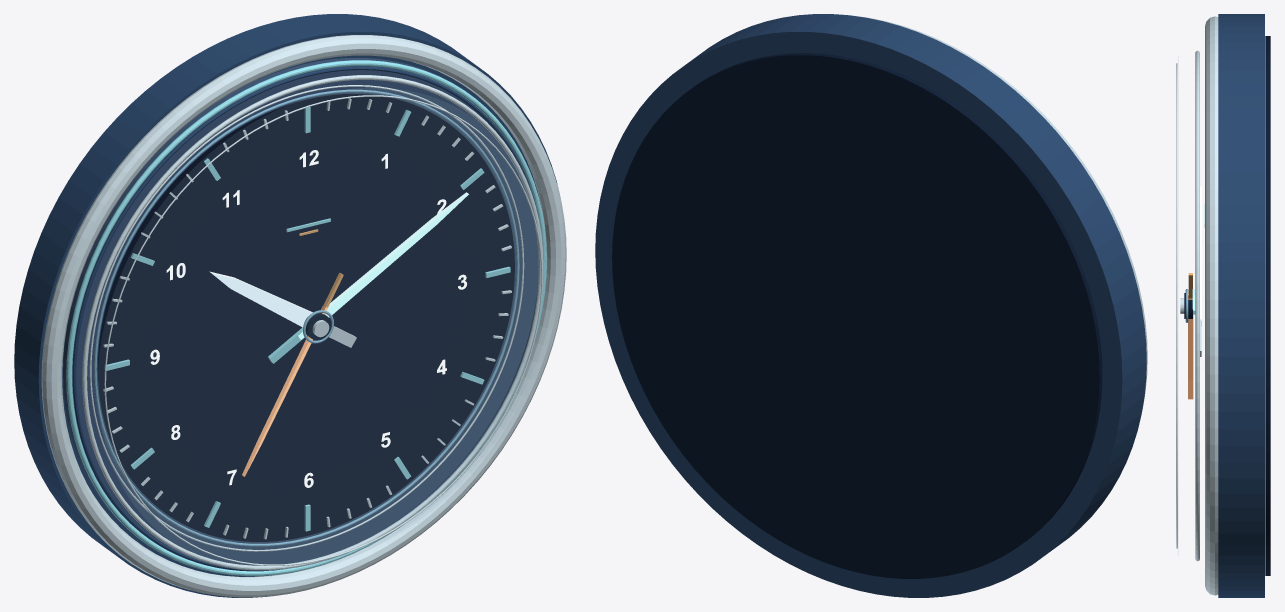
File: clock.glb
3 views of the same model, side by side, from view 1: azimuth 30°, elevation 25°; view 2: azimuth 150°, elevation 25°; view 3: azimuth 270°, elevation 25° (orthographic). The views are drawn at different scales.
Visible parts, largest first — view 1: Dial / brushed face, Bezel / outer polished edge, Dial / recessed enamel, Case / cobalt body, Crystal / fine perimeter, Bezel / cyan inner lip, Bezel / inner machined seam, Dial / circular minute track, Dial / fine radial border, Crystal / highlight rim, HAND_MINUTE / blade, HAND_HOUR / blade (+1 smaller); view 2: Back / dark steel, Case / cobalt body, Bezel / outer polished edge; view 3: Case / cobalt body, Bezel / outer polished edge, Back / dark steel, Crystal / fine perimeter, Crystal / highlight rim, HAND_SECOND / blade, HAND_HOUR / blade.
Part boxes in pixels (x1,y1,x2,y2): Dial / brushed face: (97, 94, 514, 541); Bezel / outer polished edge: (41, 35, 566, 597); Dial / recessed enamel: (63, 58, 538, 565); Case / cobalt body: (14, 14, 558, 597); Crystal / fine perimeter: (82, 75, 543, 570); Bezel / cyan inner lip: (66, 60, 546, 576); Bezel / inner machined seam: (72, 66, 538, 571); Dial / circular minute track: (94, 89, 519, 546); Dial / fine radial border: (89, 85, 524, 551); Crystal / highlight rim: (104, 95, 542, 565); HAND_MINUTE / blade: (298, 192, 468, 339); HAND_HOUR / blade: (209, 271, 312, 327); Back / dark steel: (612, 53, 1102, 578); Case / cobalt body: (595, 14, 1146, 597); Bezel / outer polished edge: (853, 15, 1147, 409); Case / cobalt body: (1218, 14, 1264, 597); Bezel / outer polished edge: (1205, 16, 1218, 595); Back / dark steel: (1265, 36, 1270, 575); Crystal / fine perimeter: (1195, 50, 1199, 561); Crystal / highlight rim: (1176, 63, 1177, 548); HAND_SECOND / blade: (1188, 293, 1193, 399); HAND_HOUR / blade: (1200, 187, 1201, 325).
Bounding box in the file's own units: 3.74 × 3.74 × 0.6055.
Materials: 13 (1 with a texture image).
